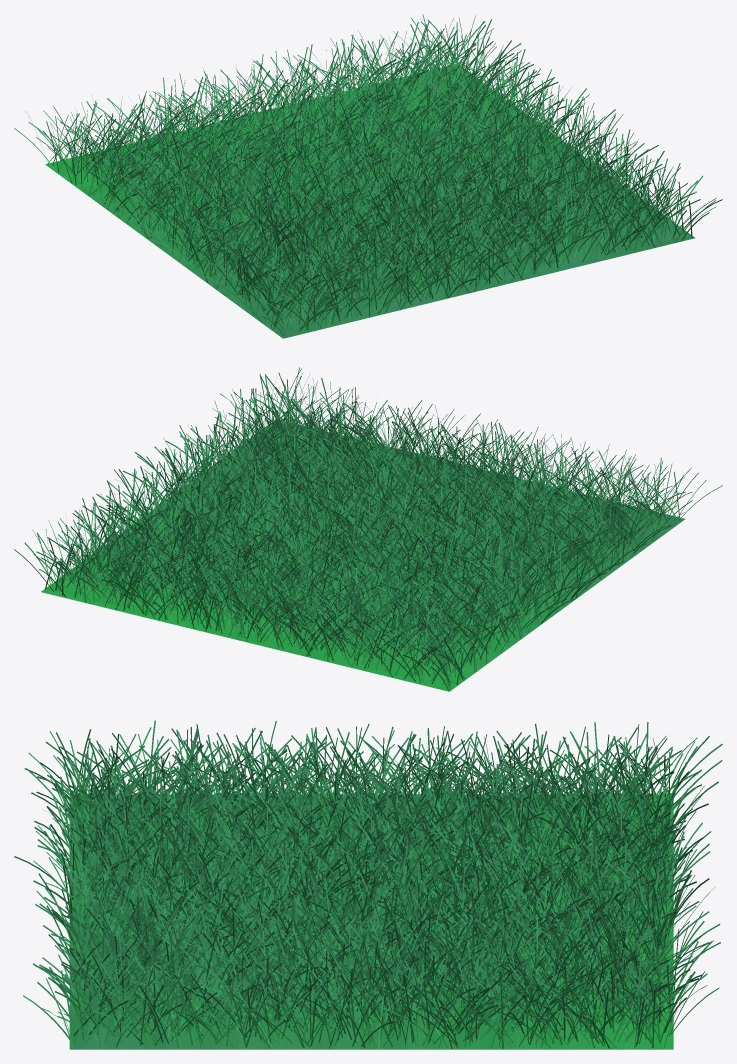
Rendered from dense-grass.fbx.
The picture shows the model from 3 angles, top to bottom: view 1: azimuth 30°, elevation 25°; view 2: azimuth 150°, elevation 25°; view 3: azimuth 270°, elevation 25°; orthographic projection. The views are drawn at different scales.
Parts seen in each view (by area): view 1: VRayFastFur, Plane; view 2: VRayFastFur, Plane; view 3: VRayFastFur, Plane.
Part boxes in pixels (bbox=[...]): VRayFastFur: bbox=[14, 14, 722, 335]; Plane: bbox=[45, 64, 695, 338]; VRayFastFur: bbox=[14, 367, 722, 690]; Plane: bbox=[41, 420, 684, 691]; VRayFastFur: bbox=[14, 720, 722, 1048]; Plane: bbox=[69, 794, 673, 1049].
Bounding box in the file's own units: 470 × 50.3 × 470.
Materials: 1 (1 with a texture image).
